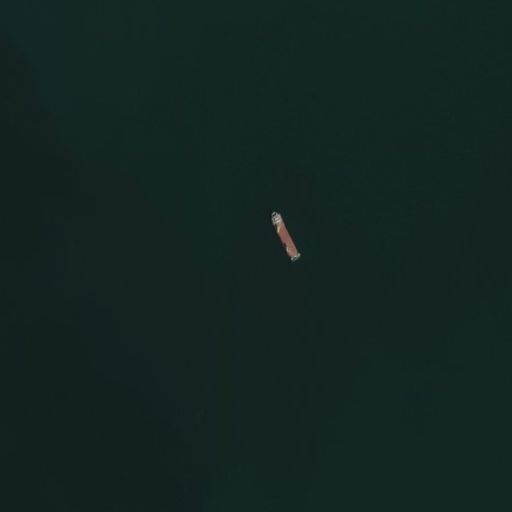ship: (267, 208, 304, 266)
